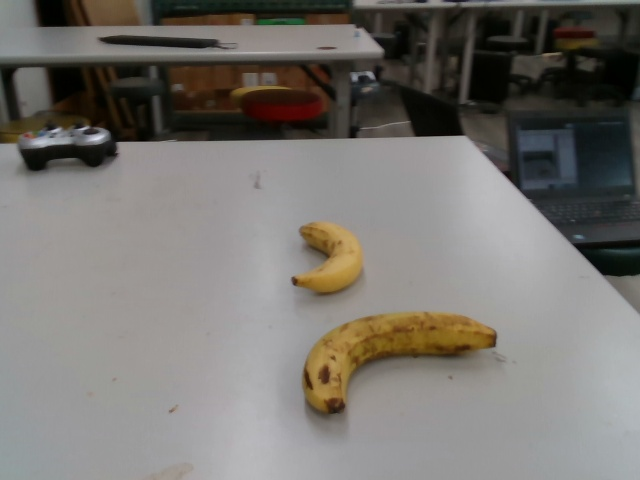banana: (299, 309, 499, 415), (287, 220, 366, 297)
